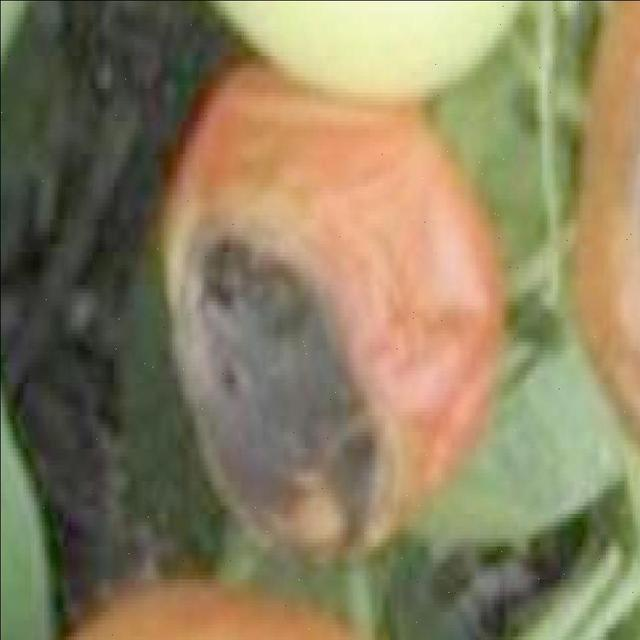Blossom End Rot Fruit: (5, 128, 424, 268)
